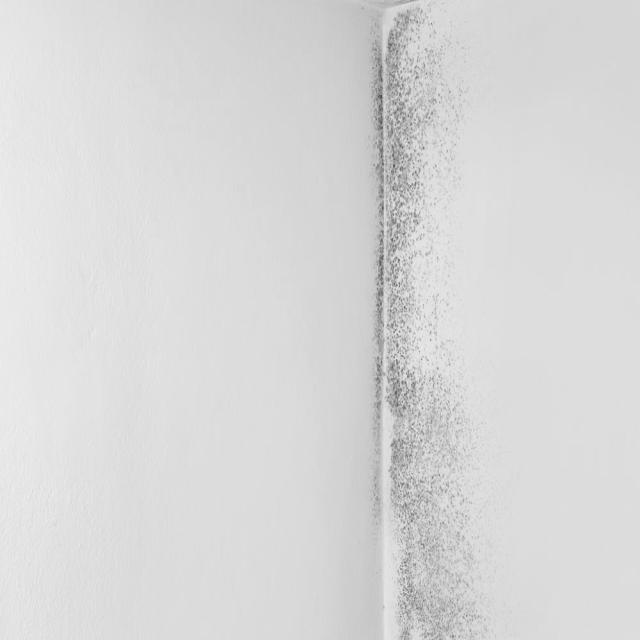stain marks: (361, 0, 501, 640)
